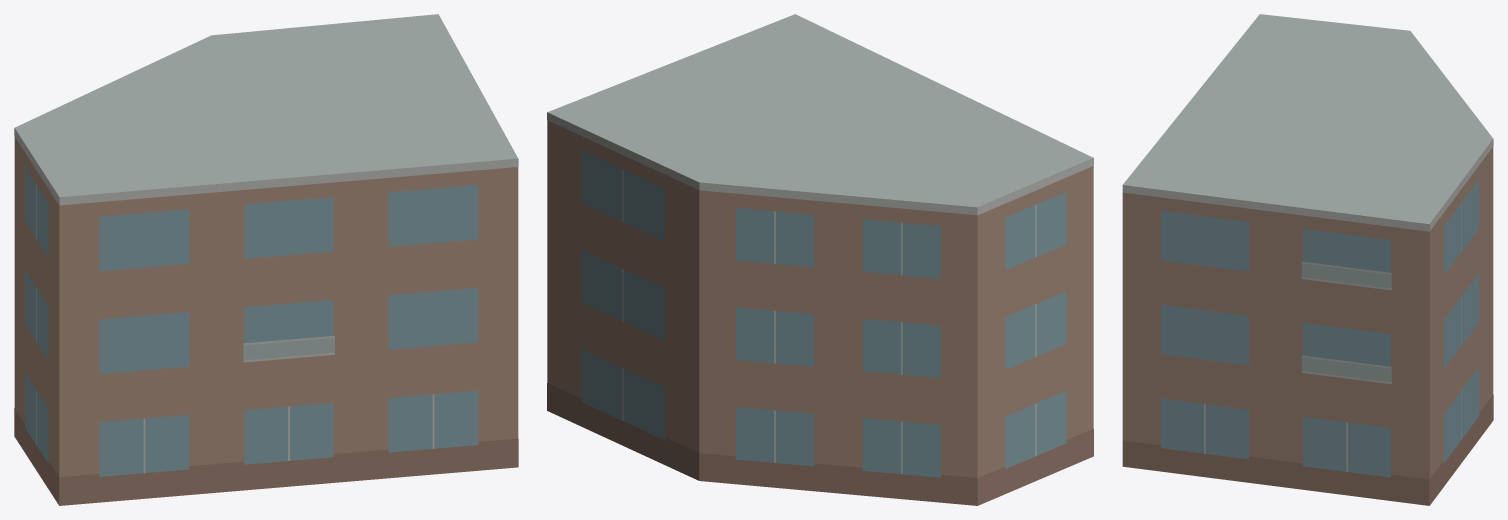
File: survey-upis-32671215.glb
3 renders of one model, left to right at view 1: azimuth 30°, elevation 25°; view 2: azimuth 150°, elevation 25°; view 3: azimuth 270°, elevation 25°, orthographic. The views are drawn at different scales.
Visible parts, largest first — view 1: survey-upis-32671215.tmp; view 2: survey-upis-32671215.tmp; view 3: survey-upis-32671215.tmp.
Part boxes in pixels (x1=…): survey-upis-32671215.tmp: x1=14, y1=14, x2=518, y2=505; survey-upis-32671215.tmp: x1=547, y1=14, x2=1093, y2=505; survey-upis-32671215.tmp: x1=1122, y1=14, x2=1493, y2=505.
Bounding box in the file's own units: 14.66 × 9.15 × 10.93.
